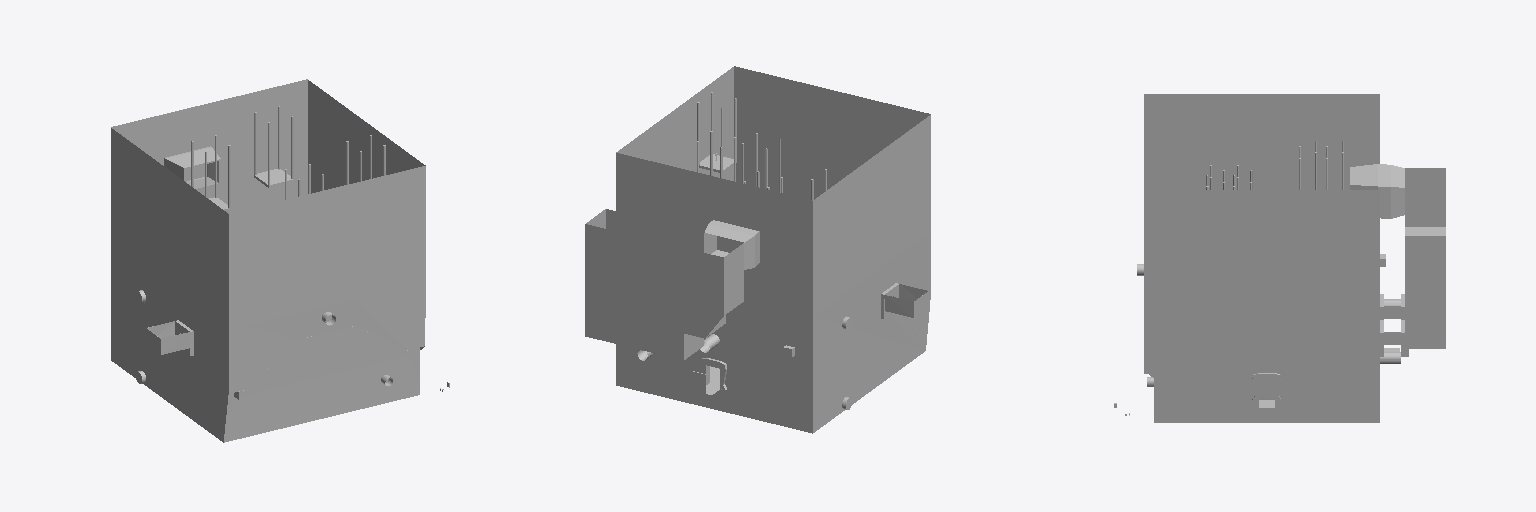
File: JSch_Level_1_(1)Build.obj
The picture shows the model from 3 angles: view 1: azimuth 30°, elevation 25°; view 2: azimuth 150°, elevation 25°; view 3: azimuth 270°, elevation 25°; orthographic projection.
Visible parts, largest first — view 1: Floor_Cube.014, Vents_Cube.013, Jump_Room_Cube.018, Rafter_Platform.001_Cube.030, Rafter_Platform_Cube.029; view 2: Floor_Cube.014, Jump_Room_Cube.018, Vents_Cube.013, Rafter_Platform.004_Cube.033, Pipes_East_Cylinder.002; view 3: Floor_Cube.014, Jump_Room_Cube.018.
Part boxes in pixels (x1,y1,x2,y2): Floor_Cube.014: (111,79,425,442); Vents_Cube.013: (146,320,414,399); Jump_Room_Cube.018: (164,146,220,189); Rafter_Platform.001_Cube.030: (254,106,294,187); Rafter_Platform_Cube.029: (191,135,230,211); Floor_Cube.014: (616,66,930,433); Jump_Room_Cube.018: (585,209,759,360); Vents_Cube.013: (783,283,928,357); Rafter_Platform.004_Cube.033: (697,92,736,172); Pipes_East_Cylinder.002: (637,316,851,409); Floor_Cube.014: (1144,94,1379,422); Jump_Room_Cube.018: (1350,164,1445,356).
Bounding box in the file's own units: 19.74 × 17.76 × 22.15.